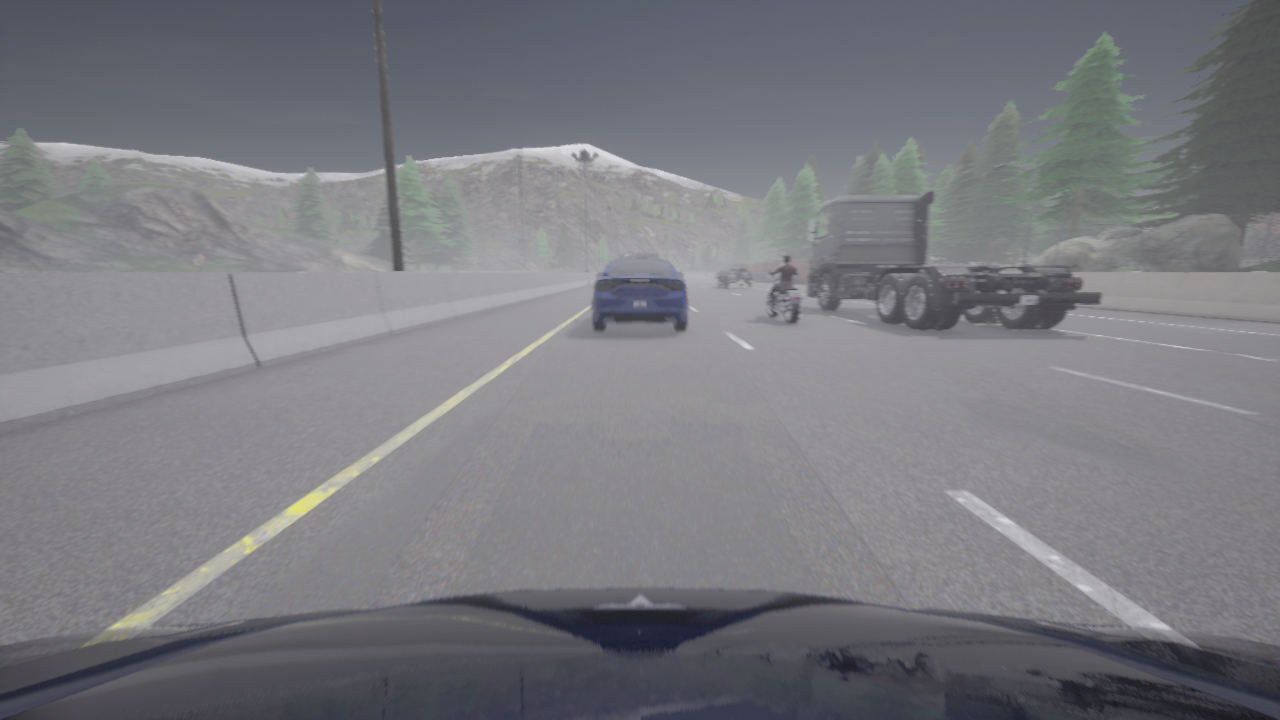cyclist: (0, 588, 1279, 719), (806, 191, 1100, 330), (592, 257, 687, 330), (766, 269, 803, 323), (717, 265, 753, 288), (618, 254, 661, 259)
